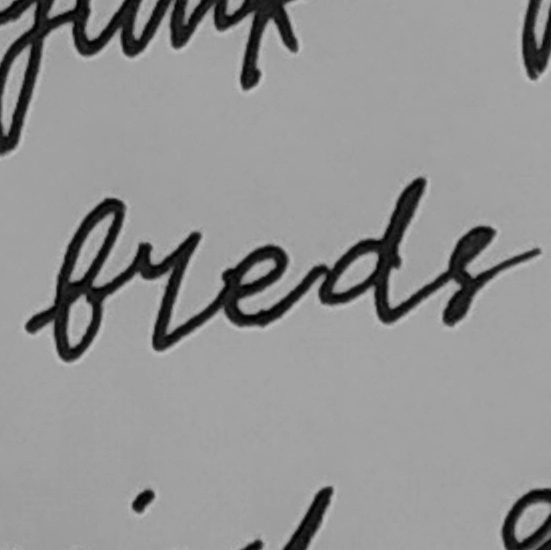b: (46, 194, 128, 364)
d: (312, 171, 430, 330)
e: (215, 240, 297, 333)
r: (129, 226, 208, 357)
s: (434, 220, 503, 330)
